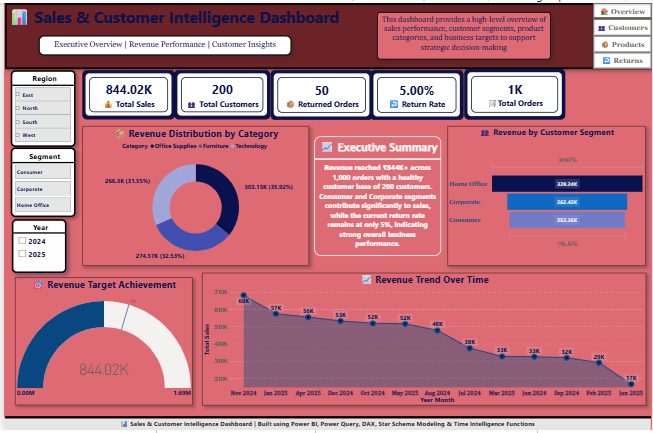

Layout of this report page (visuals, bound fields, positions):
{"tool":"powerbi","page":{"name":"Executive Overview","canvas":[2200,1450],"ordinal":0},"visuals":[{"type":"textbox","box":[2.3,0,2198.1,225.2],"z":0},{"type":"textbox","box":[119.6,110.3,858.6,68],"z":1000},{"type":"cardVisual","fields":{"Data":["Measures_Table.Total Sales"]},"box":[265.1,229.9,314.3,166.6],"z":2000},{"type":"cardVisual","fields":{"Data":["Measures_Table.Total Customers"]},"box":[579.4,229.9,326.1,166.6],"z":3000},{"type":"cardVisual","fields":{"Data":["Measures_Table.Return Rate %"]},"box":[1243.3,227.5,316.7,168.9],"z":4000},{"type":"areaChart","title":"📈 Revenue Trend Over Time","fields":{"Category":["Date_Dim.Year Month"],"Y":["Measures_Table.Total Sales"]},"box":[673.3,917.2,1508.4,450.4],"z":5000},{"type":"donutChart","title":"📦 Revenue Distribution by Category","fields":{"Category":["Product_Dim.Category"],"Y":["Measures_Table.Total Sales"]},"box":[265.1,417.6,769.4,473.9],"z":6000},{"type":"cardVisual","fields":{"Data":["Measures_Table.Total Orders"]},"box":[1564.7,225.2,342.5,171.2],"z":7000},{"type":"cardVisual","fields":{"Data":["Measures_Table.Total Returns"]},"box":[905.5,227.5,347.2,168.9],"z":8000},{"type":"gauge","title":"🎯 Revenue Target Achievement","fields":{"TargetValue":["Measures_Table.Sales Target"],"Y":["Measures_Table.Total Sales"]},"box":[37.5,933.7,602.9,434],"z":9000},{"type":"funnel","title":"👥 Revenue by Customer Segment","fields":{"Category":["Customer_Dim.Segment"],"Y":["Measures_Table.Total Sales"]},"box":[1508.4,417.6,673.3,473.9],"z":10000},{"type":"slicer","title":"Year","fields":{"Values":["Date_Dim.Year"]},"box":[28.2,734.3,185.3,183],"z":11000},{"type":"listSlicer","fields":{"Values":["Customer_Dim.Region"]},"box":[21.1,229.9,220.5,260.4],"z":12000},{"type":"advancedSlicerVisual","fields":{"Values":["Customer_Dim.Segment"]},"box":[21.1,490.3,220.5,236.9],"z":13000},{"type":"actionButton","title":"Overview","box":[2001,0,199.4,51.6],"z":14000},{"type":"actionButton","title":"Overview","box":[2001,51.6,199.4,58.6],"z":15000},{"type":"actionButton","title":"Overview","box":[2001,110.3,199.4,58.6],"z":16000},{"type":"actionButton","title":"Overview","box":[2001,168.9,199.4,56.3],"z":17000},{"type":"textbox","box":[1269.1,30.5,591.2,161.9],"z":18000},{"type":"textbox","title":"📈 Executive Summary","box":[1053.3,452.8,431.6,405.8],"z":19000},{"type":"textbox","box":[0,1407.5,2197.5,42.5],"z":20000},{"type":"shape","box":[2.5,1385,2195,45],"z":21000}]}

Visuals, with their boxes in screenshot pixels (x1, y1, x2, y2), scaled from the page's 2200x1450 canvas onto the 653x433 screenshot:
textbox: Rect(1, 0, 652, 67)
textbox: Rect(35, 33, 290, 53)
cardVisual - Measures_Table.Total Sales: Rect(79, 69, 172, 118)
cardVisual - Measures_Table.Total Customers: Rect(172, 69, 269, 118)
cardVisual - Measures_Table.Return Rate %: Rect(369, 68, 463, 118)
"📈 Revenue Trend Over Time" areaChart: Rect(200, 274, 648, 408)
"📦 Revenue Distribution by Category" donutChart: Rect(79, 125, 307, 266)
cardVisual - Measures_Table.Total Orders: Rect(464, 67, 566, 118)
cardVisual - Measures_Table.Total Returns: Rect(269, 68, 372, 118)
"🎯 Revenue Target Achievement" gauge: Rect(11, 279, 190, 408)
"👥 Revenue by Customer Segment" funnel: Rect(448, 125, 648, 266)
"Year" slicer: Rect(8, 219, 63, 274)
listSlicer - Customer_Dim.Region: Rect(6, 69, 72, 146)
advancedSlicerVisual - Customer_Dim.Segment: Rect(6, 146, 72, 217)
"Overview" actionButton: Rect(594, 0, 652, 15)
"Overview" actionButton: Rect(594, 15, 652, 33)
"Overview" actionButton: Rect(594, 33, 652, 50)
"Overview" actionButton: Rect(594, 50, 652, 67)
textbox: Rect(377, 9, 552, 57)
"📈 Executive Summary" textbox: Rect(313, 135, 441, 256)
textbox: Rect(0, 420, 652, 432)
shape: Rect(1, 414, 652, 427)
